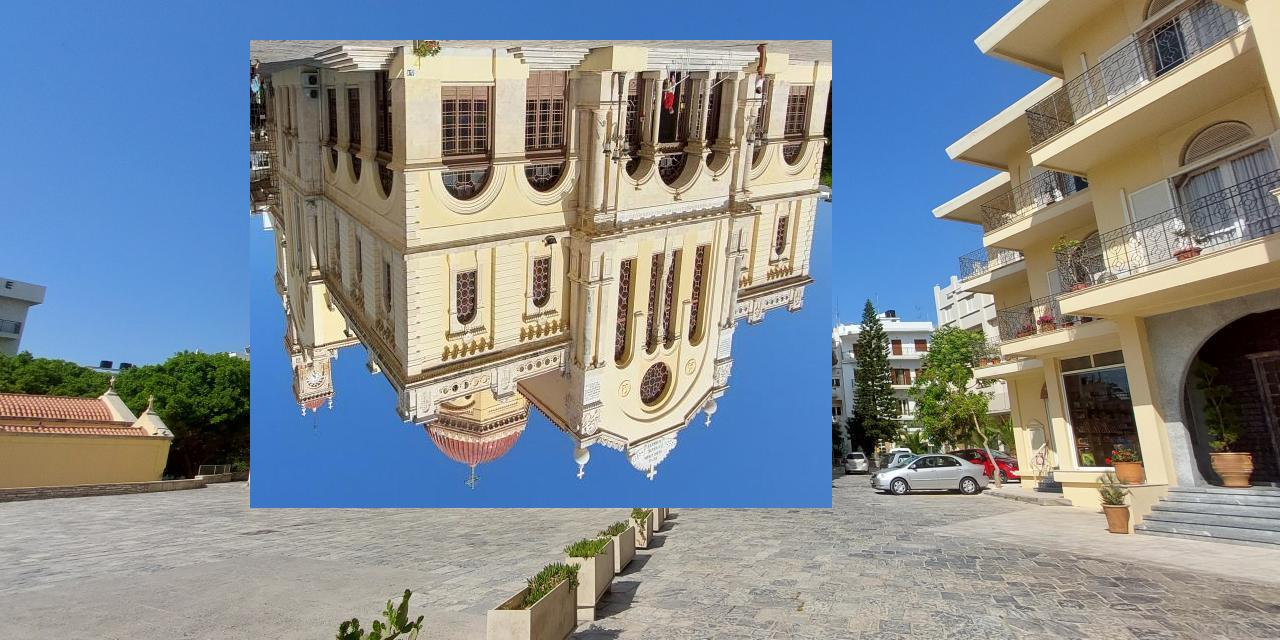Agios Minas: (251, 41, 833, 509)
